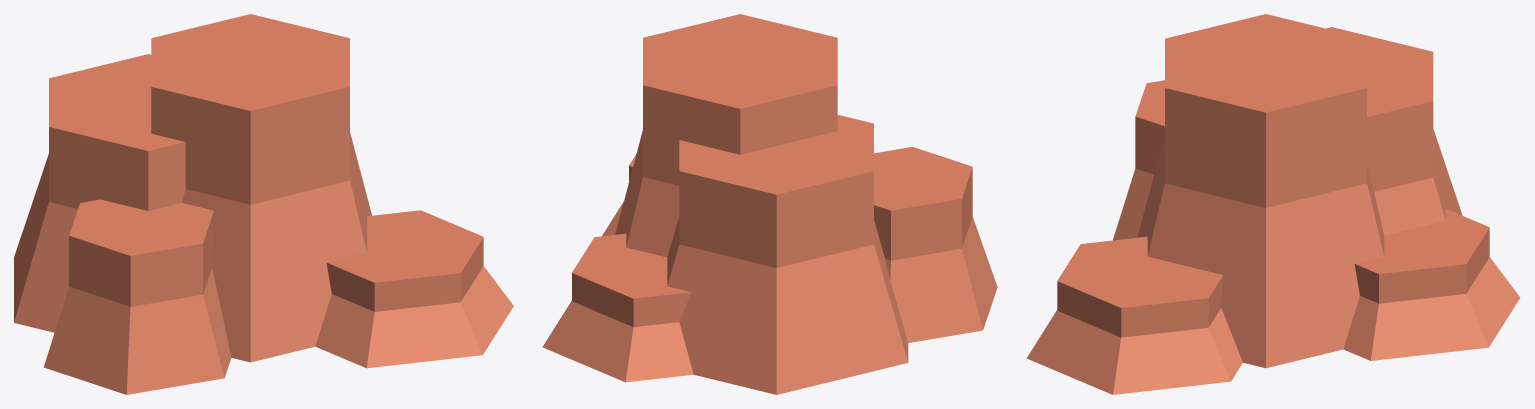
File: rock_largeB.obj
The picture shows the model from 3 angles, left to right: view 1: azimuth 30°, elevation 25°; view 2: azimuth 150°, elevation 25°; view 3: azimuth 270°, elevation 25°; orthographic projection. The views are drawn at different scales.
Visible parts, largest first — view 1: rock_largeB; view 2: rock_largeB; view 3: rock_largeB.
Boxes of the visible parts, x1,y1,x2,y2 form: rock_largeB: (14, 14, 513, 394); rock_largeB: (542, 14, 997, 394); rock_largeB: (1026, 14, 1520, 394).
Size of the model in its own units: 0.9278 by 0.5 by 0.9393.
